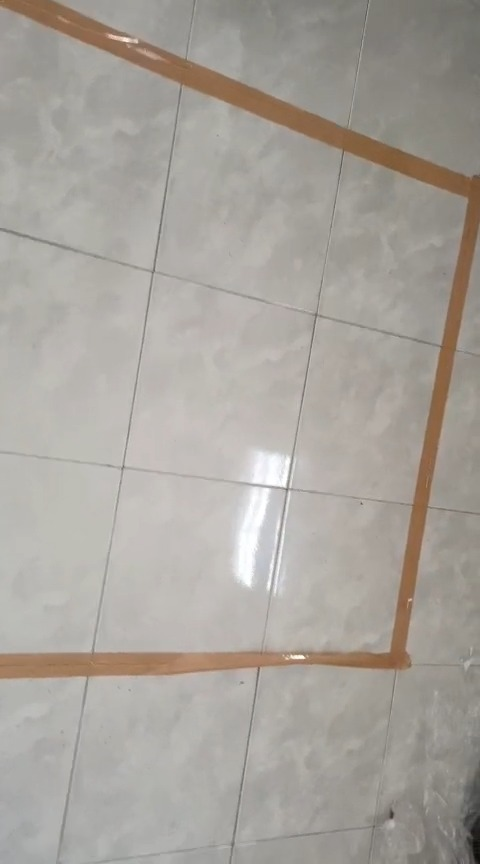floor marking: (0, 0, 479, 678)
